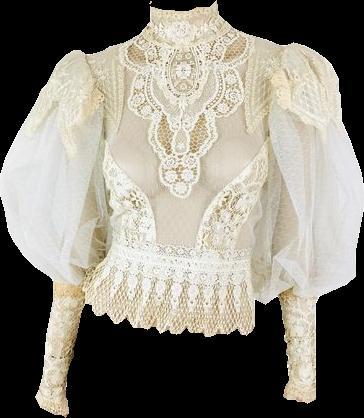Bodice: (80, 1, 286, 335)
Neckline: (109, 239, 251, 266), (141, 24, 231, 53), (149, 1, 220, 15)
Sleeve: (250, 43, 363, 403), (0, 50, 109, 417)
Sleeveline: (267, 45, 290, 111), (83, 54, 104, 120), (51, 276, 84, 288), (275, 291, 318, 299)
Waistline: (79, 283, 253, 339)
